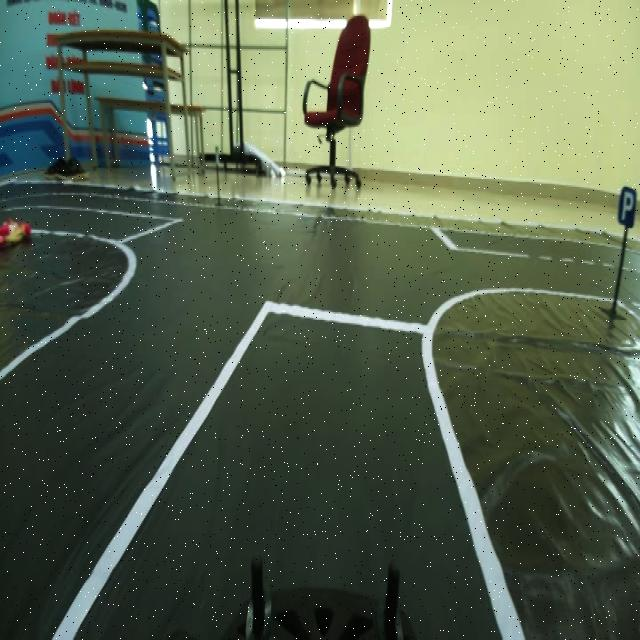parking: (617, 174, 637, 232)
